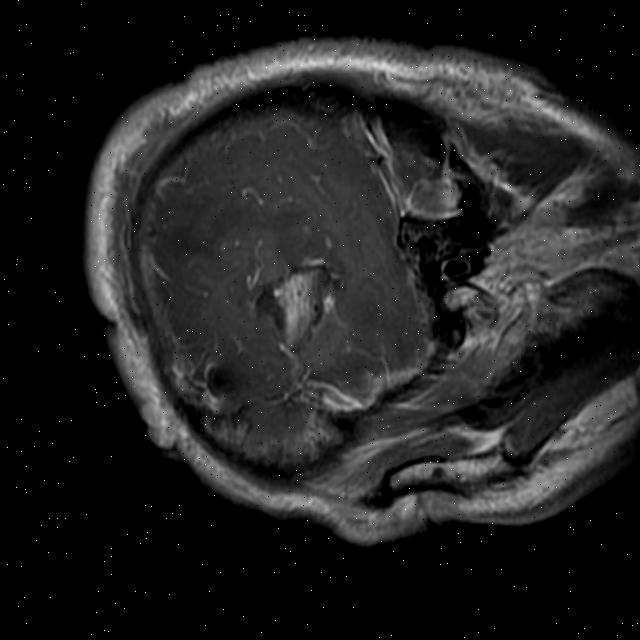Glioma: (251, 258, 341, 350)
